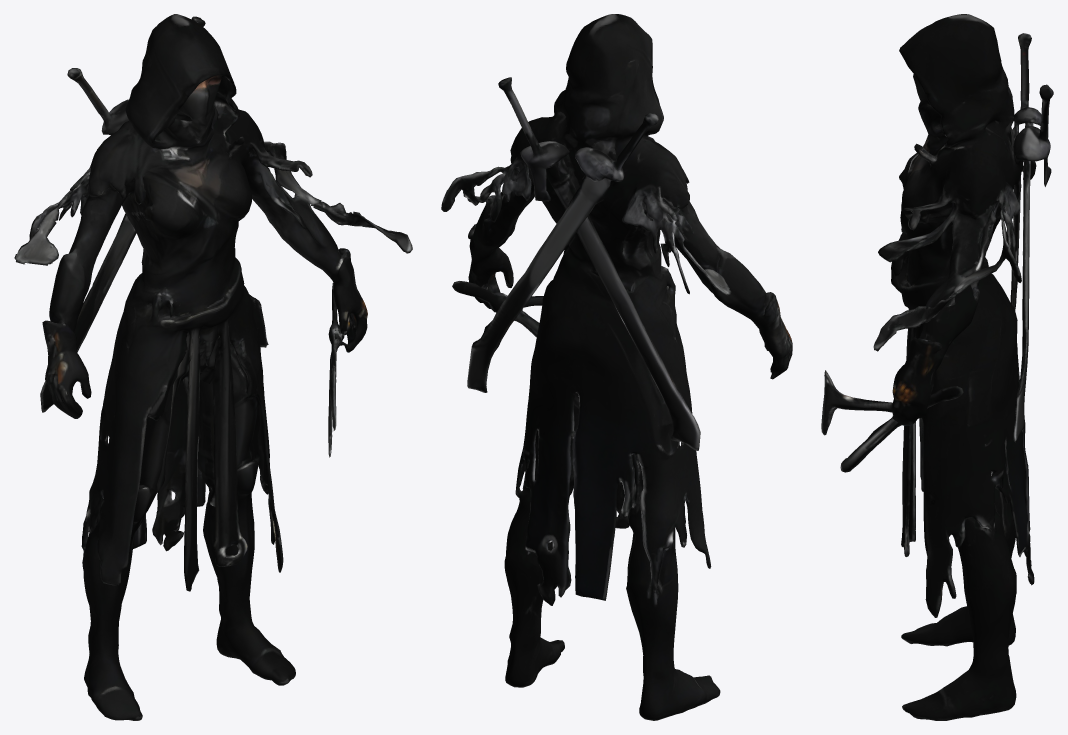
Rendered from Shadow_Assassin_1105030309.fbx.
3 renders of one model, left to right at view 1: azimuth 30°, elevation 25°; view 2: azimuth 150°, elevation 25°; view 3: azimuth 270°, elevation 25°, orthographic.
Parts seen in each view (by area): view 1: Mesh_0; view 2: Mesh_0; view 3: Mesh_0.
Boxes of the visible parts, box(x1,y1,x2,y2) form: Mesh_0: box(14, 14, 412, 720); Mesh_0: box(441, 14, 792, 720); Mesh_0: box(821, 14, 1053, 720).
Size of the model in its own units: 109 by 200 by 63.73.
Materials: 1 (1 with a texture image).
